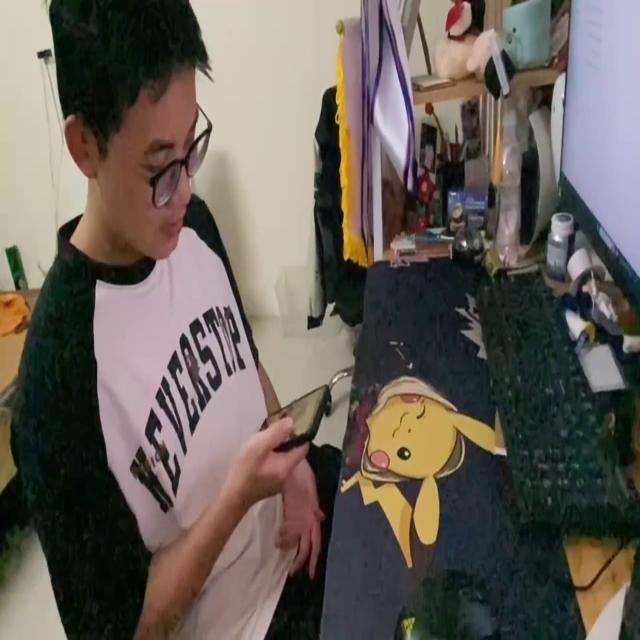laptop: (559, 6, 640, 324)
phone: (258, 384, 331, 449)
student: (10, 0, 334, 640)
